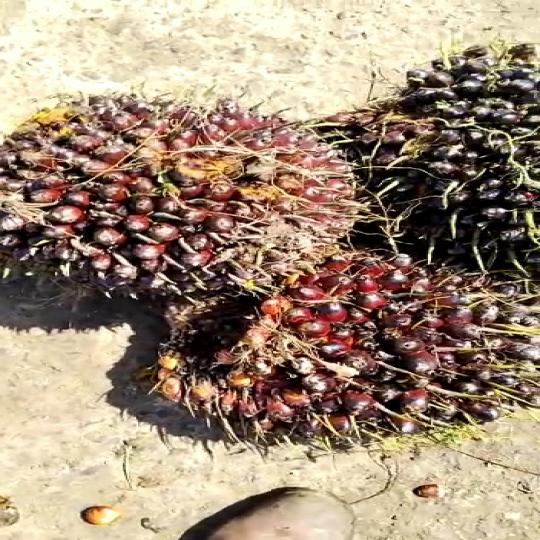kurang masak: (109, 256, 540, 451), (0, 92, 379, 295), (329, 34, 540, 257)
